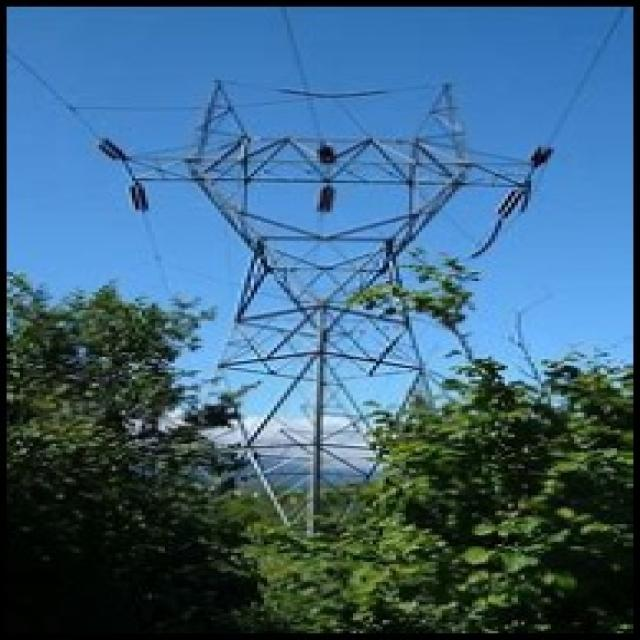utility poles: (120, 263, 292, 521), (332, 252, 534, 464)
